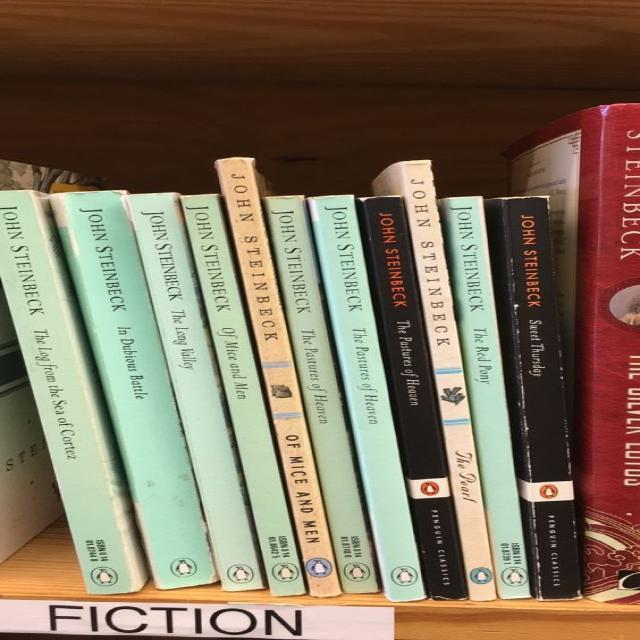book: (51, 191, 214, 589), (0, 190, 148, 594), (372, 160, 496, 600), (216, 158, 340, 597), (130, 193, 263, 589), (182, 195, 305, 595), (308, 195, 426, 601), (263, 195, 377, 593), (356, 197, 466, 598), (486, 197, 580, 600), (439, 197, 530, 599), (607, 103, 640, 613)
